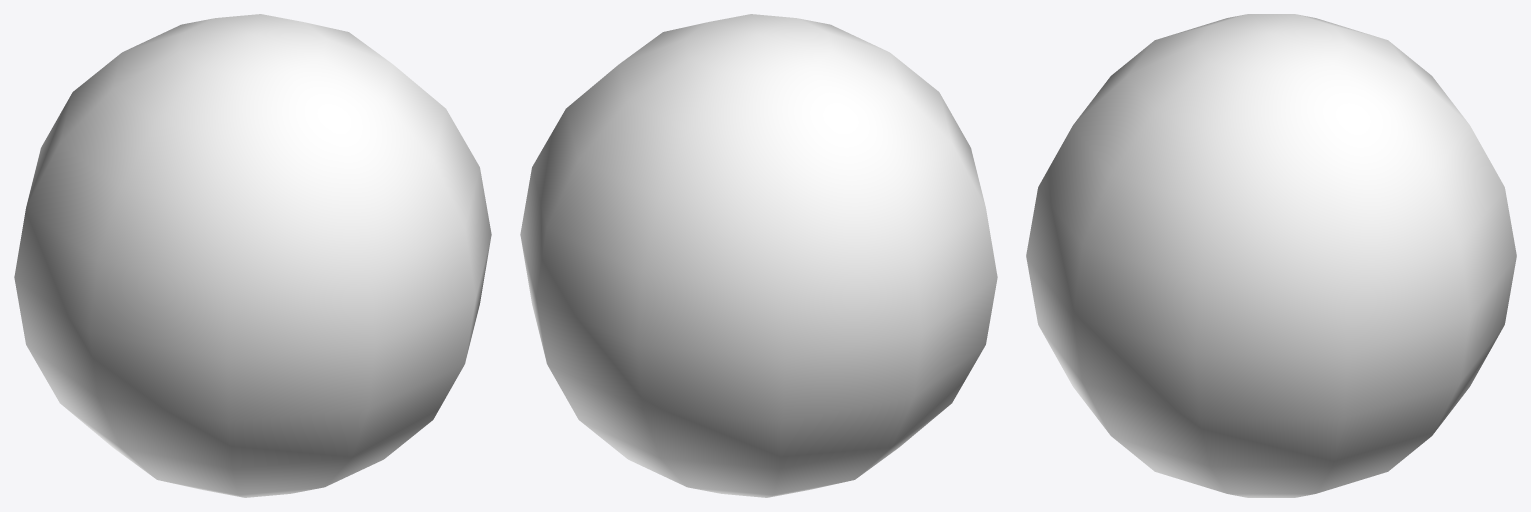
File: Snowball.fbx
3 views of the same model, side by side, from view 1: azimuth 30°, elevation 25°; view 2: azimuth 150°, elevation 25°; view 3: azimuth 270°, elevation 25° (orthographic).
Parts seen in each view (by area): view 1: IceBall; view 2: IceBall; view 3: IceBall.
Part boxes in pixels (x1,y1,x2,y2): IceBall: [14, 14, 491, 497]; IceBall: [520, 14, 997, 497]; IceBall: [1026, 14, 1516, 497].
Size of the model in its own units: 163 by 171 by 171.
